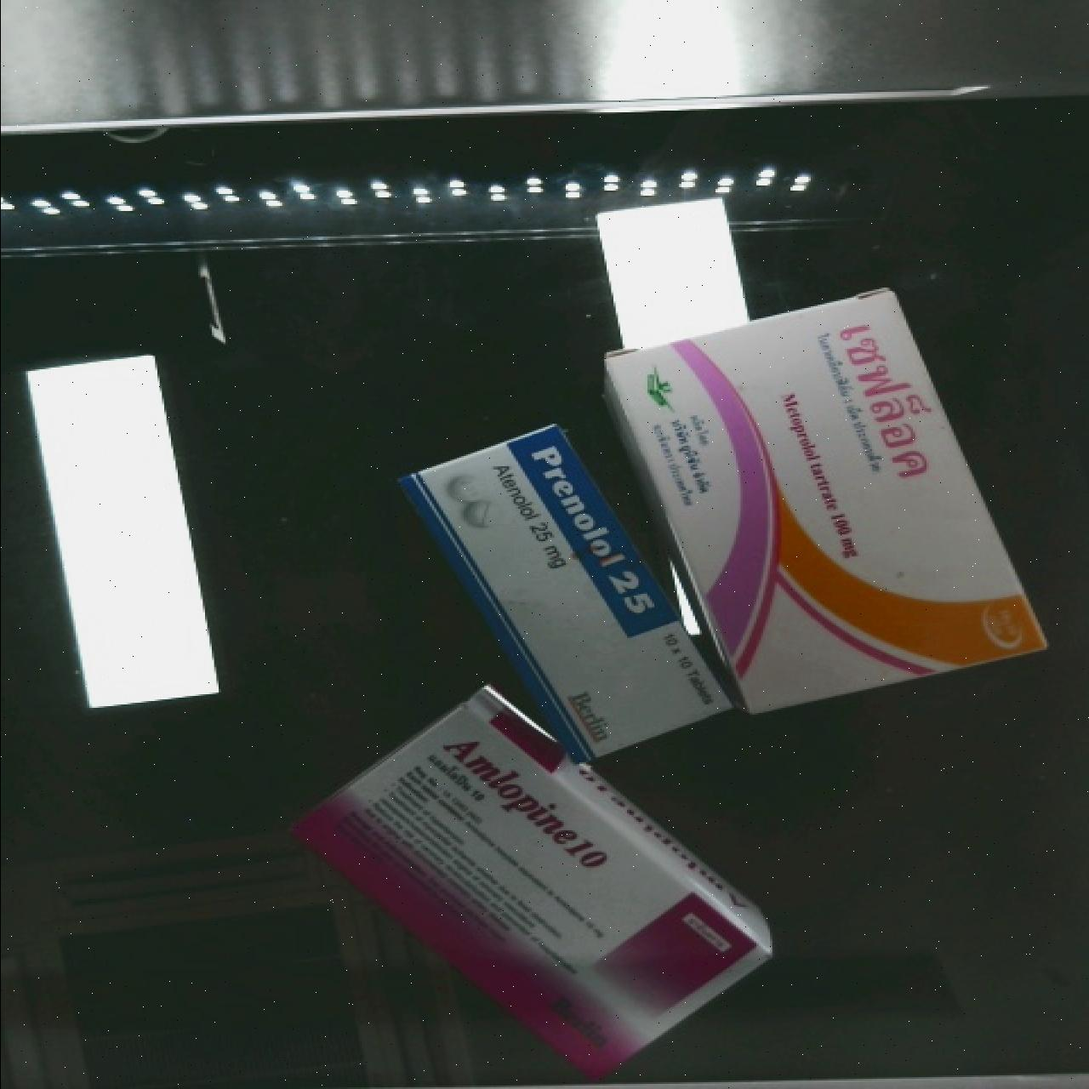medicine_label_obb: (417, 709, 639, 900), (501, 420, 681, 652), (808, 286, 967, 504)
